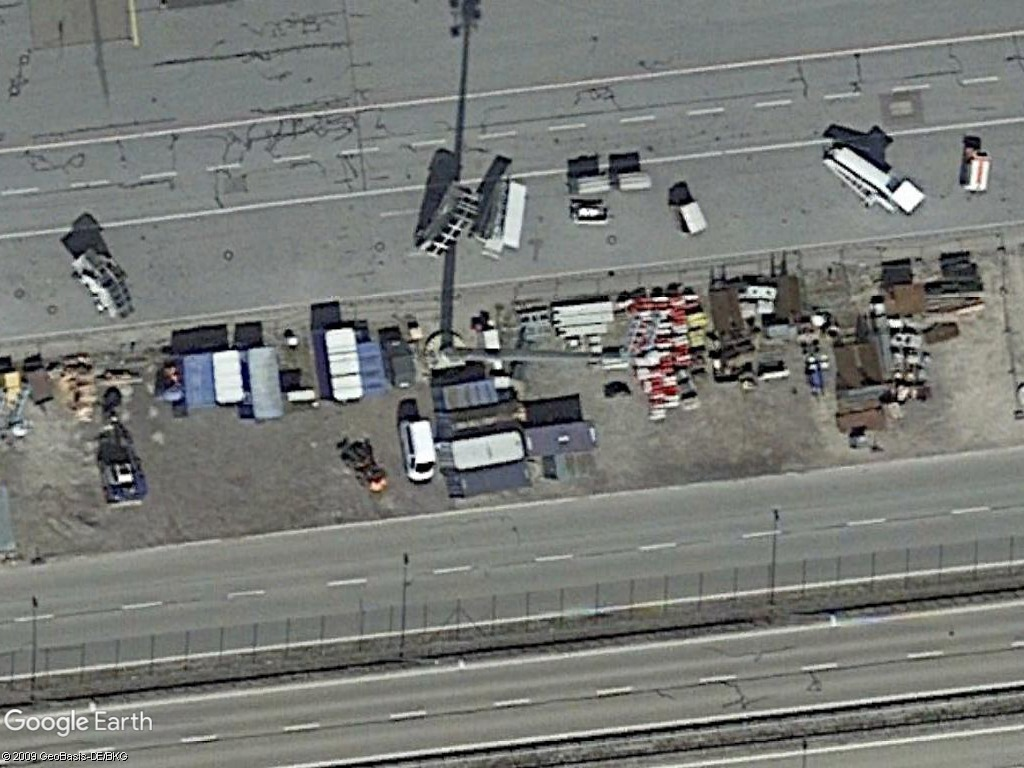stairtruck: (816, 138, 925, 223), (465, 173, 532, 263)
van: (396, 414, 441, 488)
